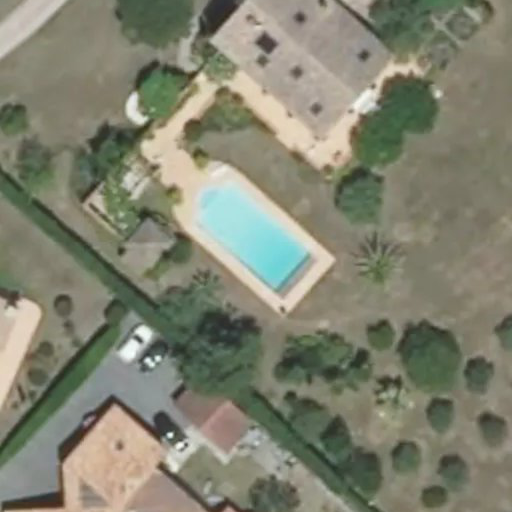pool: (184, 217, 316, 256)
